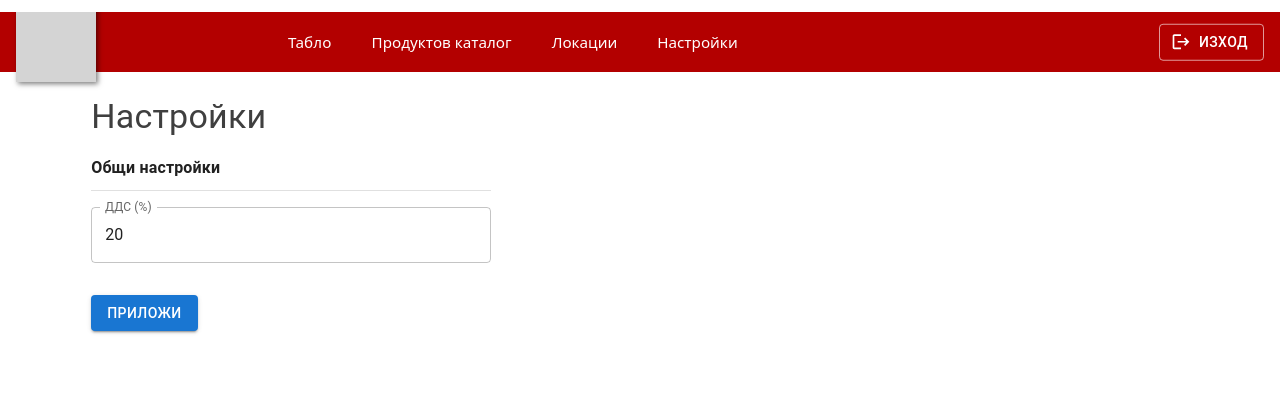
Test case: Config page › surfaces an error when the backend rejects the update
Replace the text in the field labelled "ДДС (%)" with "25" at (291, 235), box [91,207,491,263]
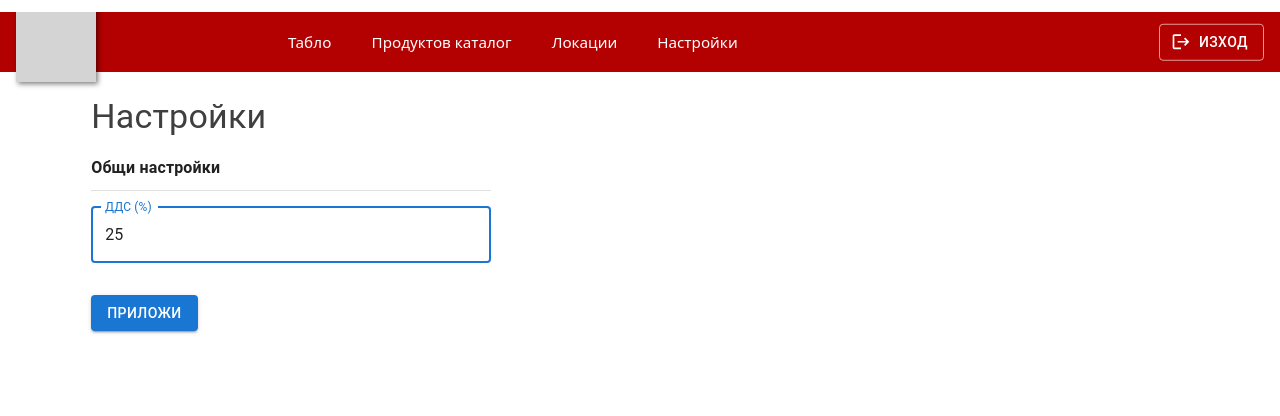
Click the button "Приложи" at (144, 313), box [91,295,198,332]
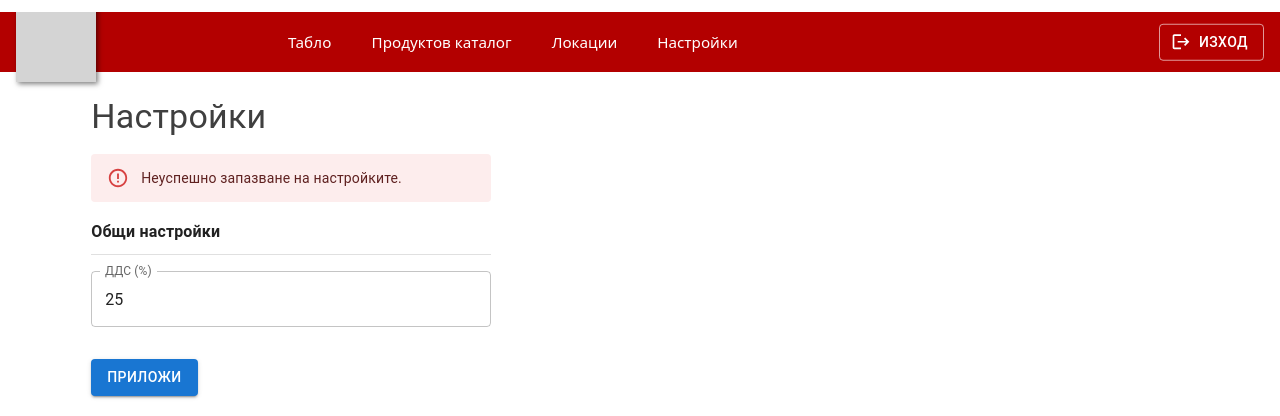
Check: the text "Неуспешно запазване на настройките." is shown, box [141,170,402,186]
